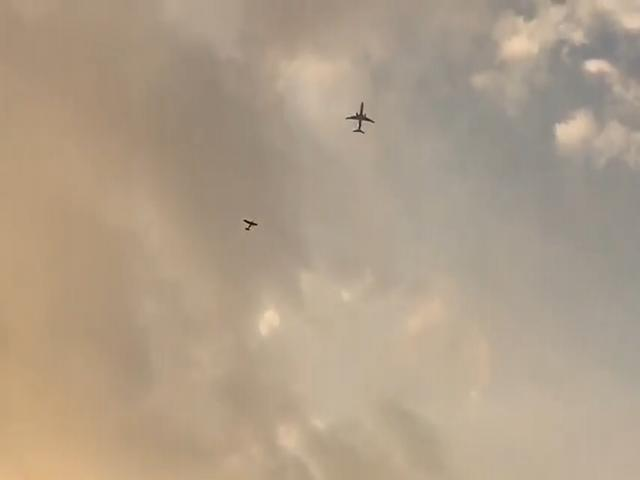plane: (345, 102, 375, 135), (243, 217, 256, 233)
